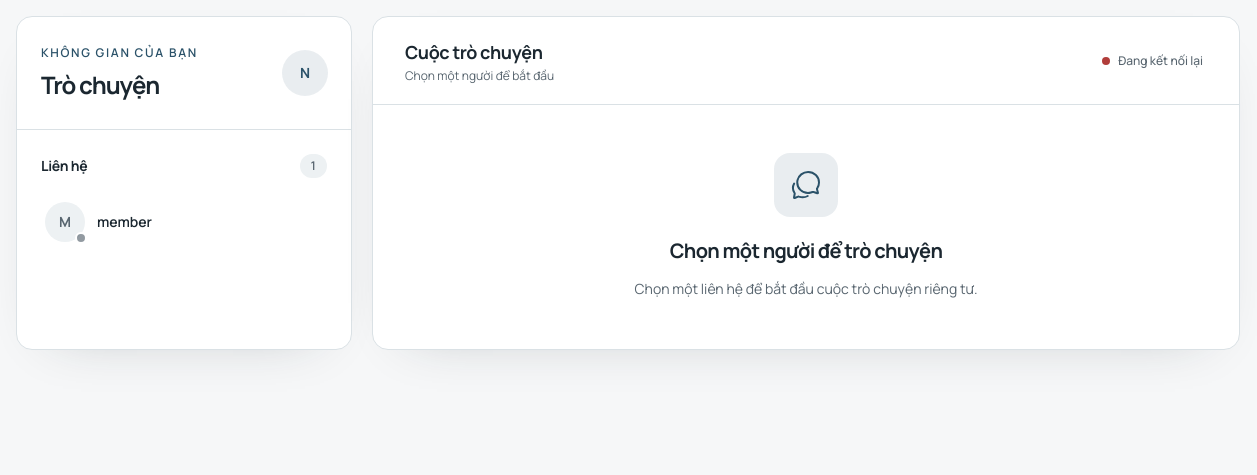
Scenario: shows seen state from read receipts in the message page
Step 1. Click the button "M member" → (65, 222), box [33,190,335,254]
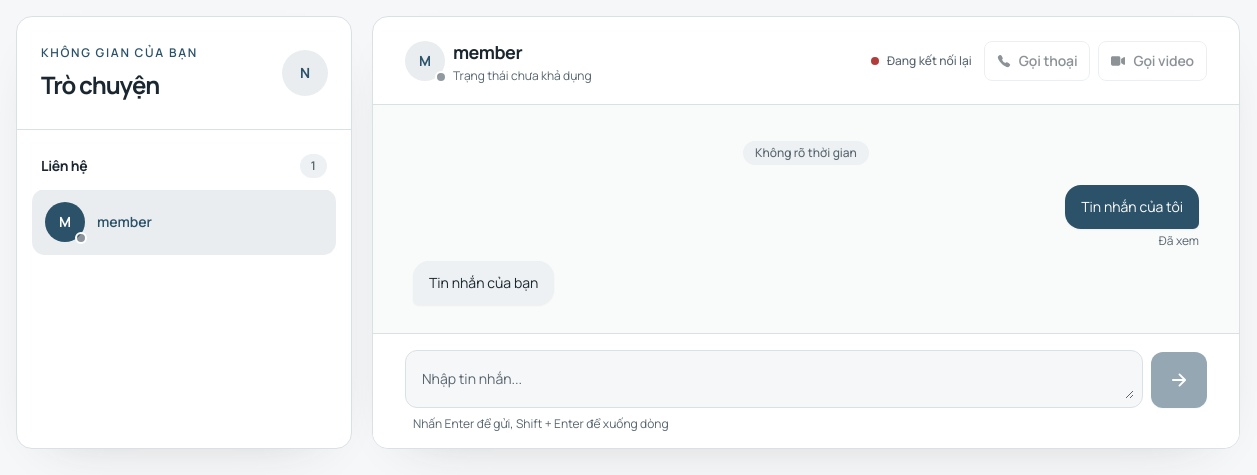
Check: the text "Đã xem" is shown, box [1159,233,1199,249]
